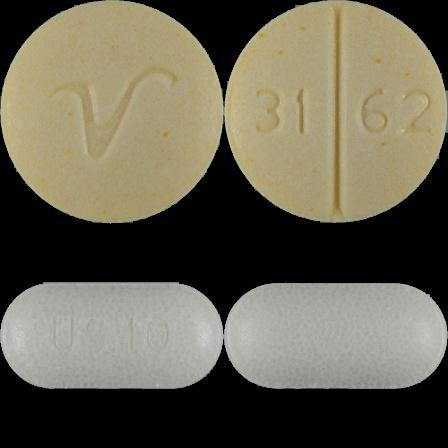48433-320: (0, 0, 224, 224)
